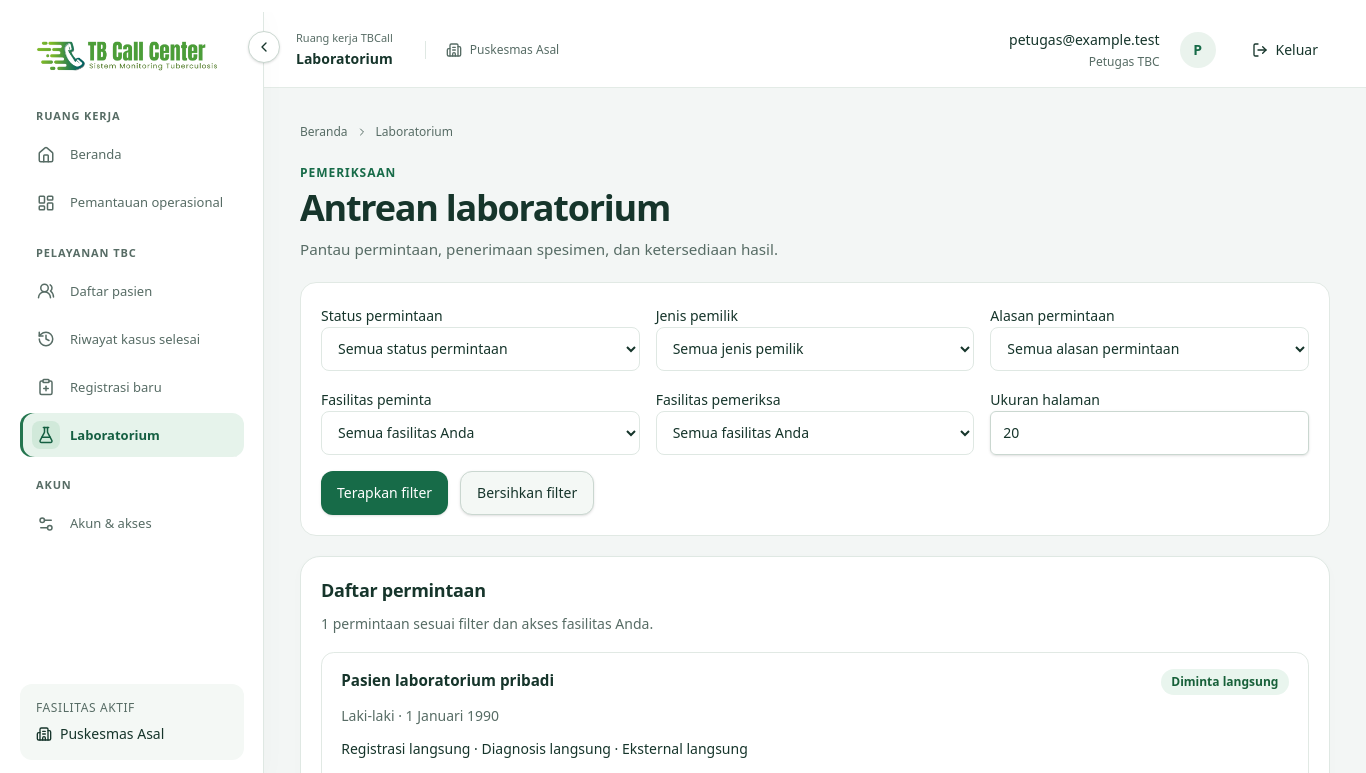
Scenario: queue rejects page size 0 before issuing a new GET
The width and height of the screenshot is (1366, 773).
Expected: the heading "Pasien laboratorium pribadi" is shown, x1=341 y1=668 x2=554 y2=691
Replace the text in the number field labelled "Ukuran halaman" with "0" at (1150, 432), box x1=990 y1=410 x2=1309 y2=454
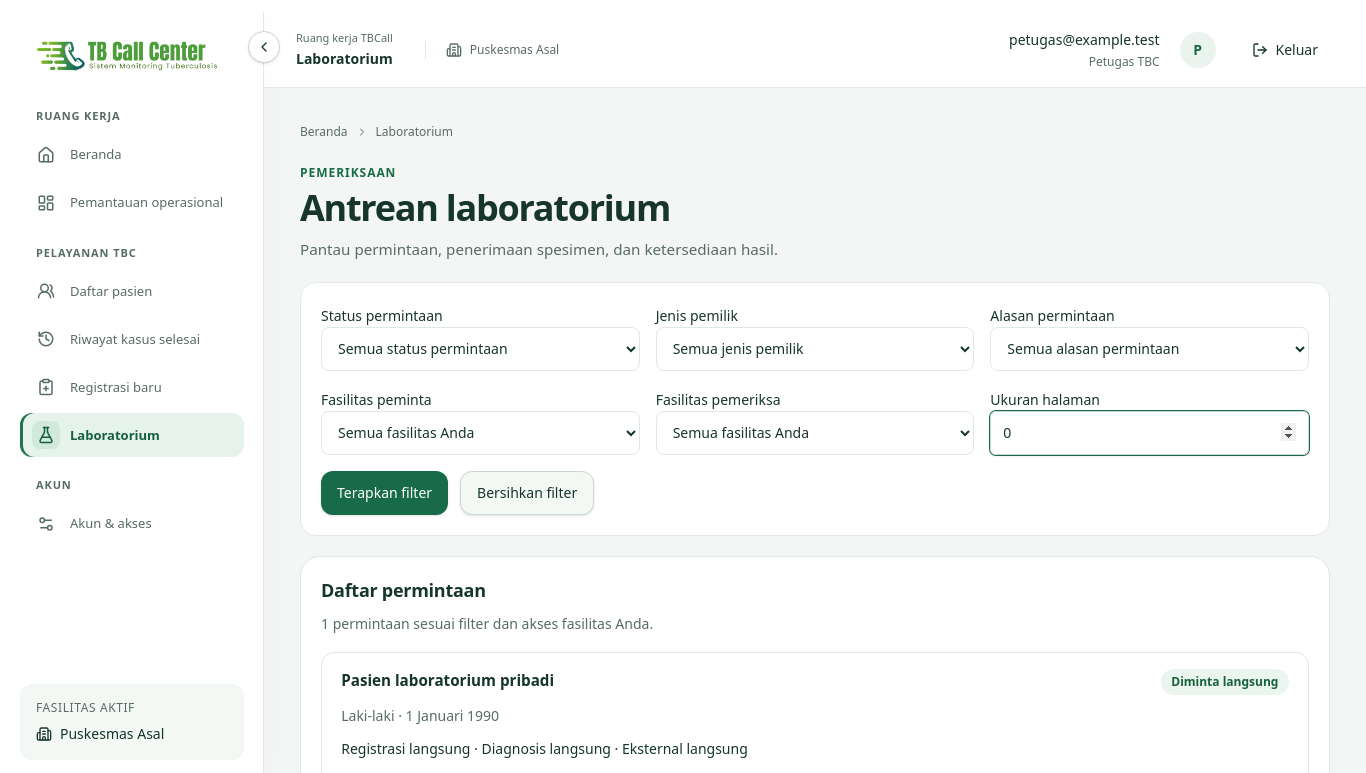
Click the button "Terapkan filter" at (385, 492), box x1=321 y1=470 x2=448 y2=514
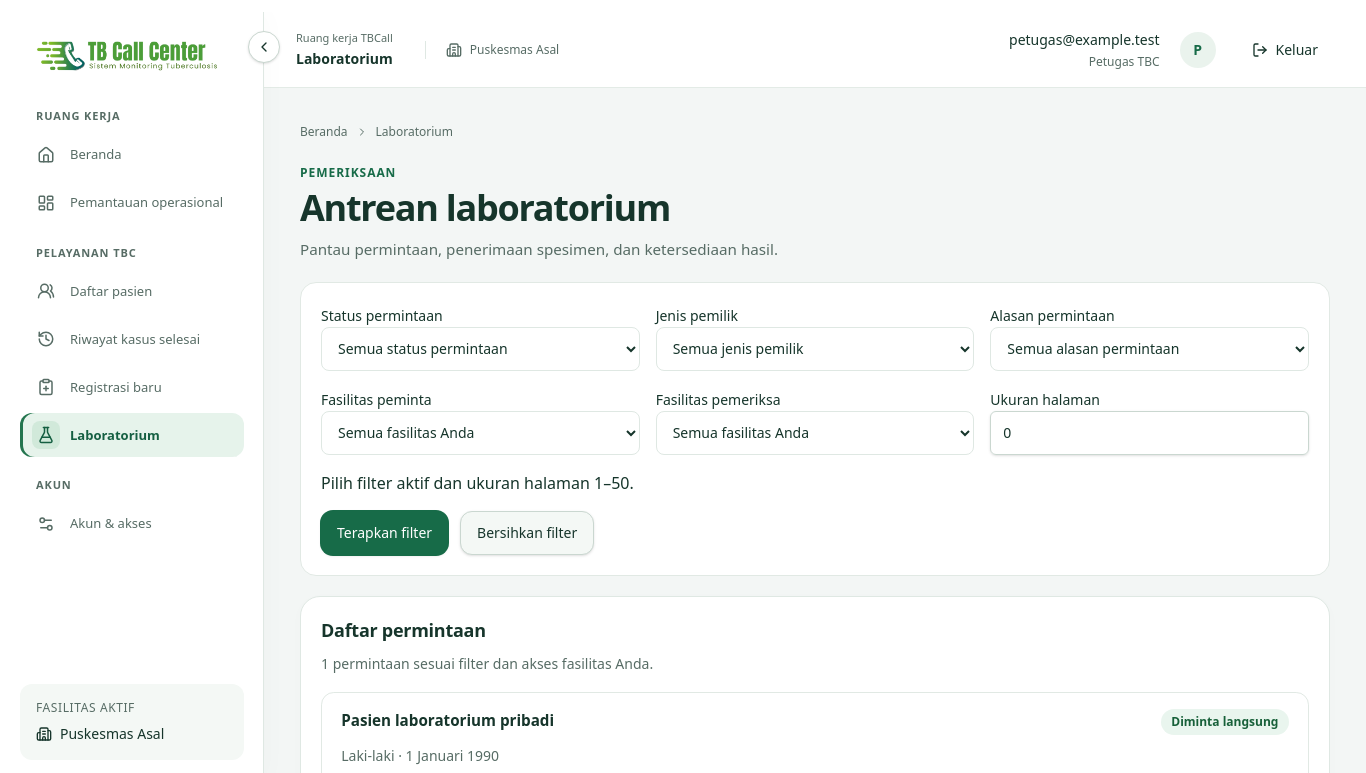
Expected: the message "Pilih filter aktif dan ukuran halaman 1–50." is shown, x1=321 y1=472 x2=634 y2=494
